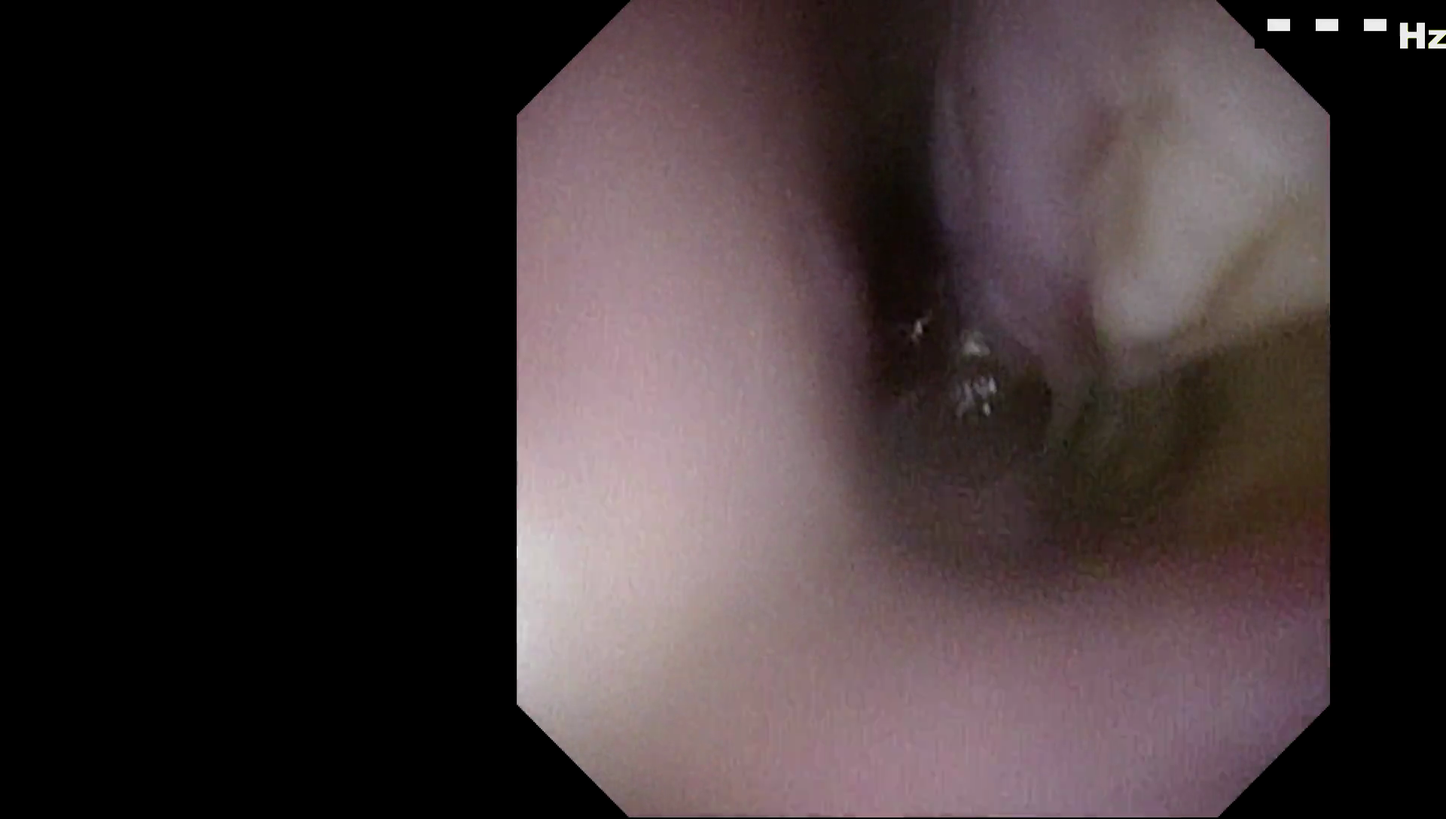close_wall: (523, 138, 925, 702)
next: (810, 90, 1004, 418)
